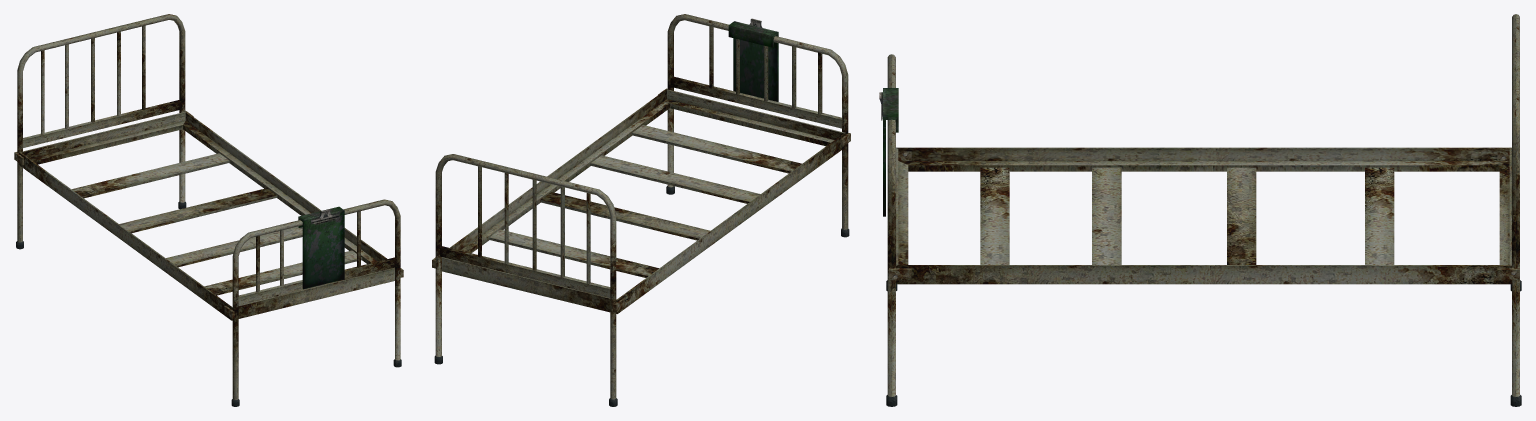
Rendered from hbed01_obj_uni17_ag.obj.
The picture shows the model from 3 angles, left to right: view 1: azimuth 30°, elevation 25°; view 2: azimuth 150°, elevation 25°; view 3: azimuth 270°, elevation 25°; orthographic projection. The views are drawn at different scales.
Visible parts, largest first — view 1: hbed01_obj_uni17_ag; view 2: hbed01_obj_uni17_ag; view 3: hbed01_obj_uni17_ag.
Part boxes in pixels (bbox=[...]): hbed01_obj_uni17_ag: bbox=[14, 14, 403, 406]; hbed01_obj_uni17_ag: bbox=[432, 14, 850, 406]; hbed01_obj_uni17_ag: bbox=[879, 14, 1521, 406].
Size of the model in its own units: 101 by 111 by 226.
Materials: 1 (1 with a texture image).
